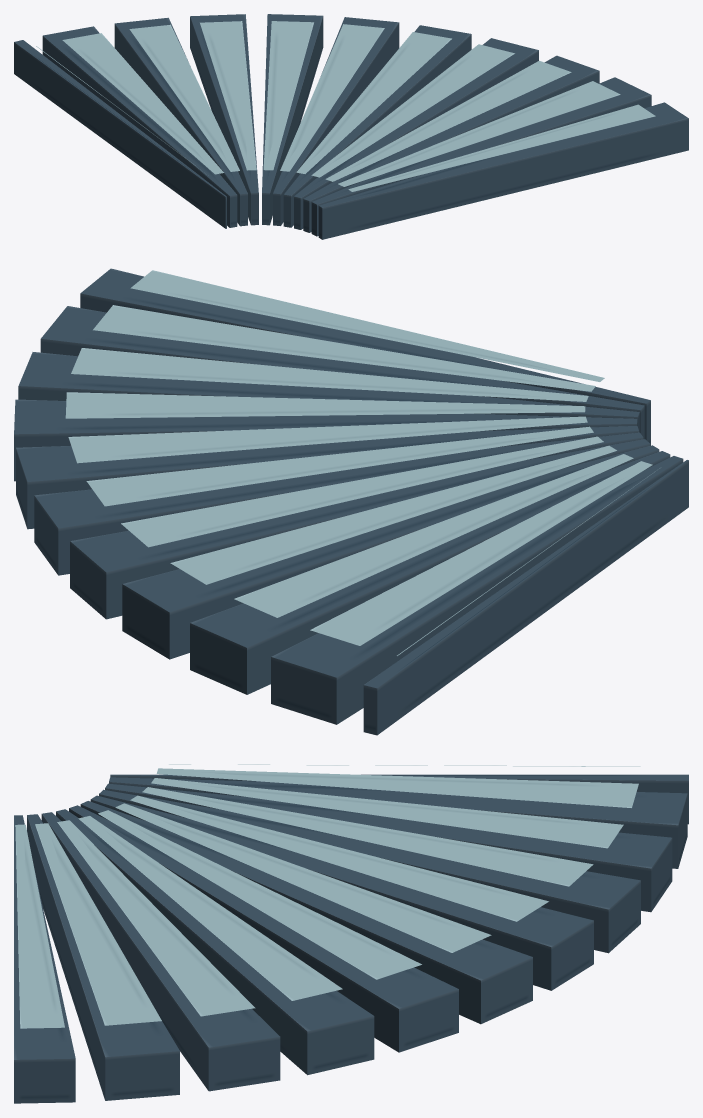
File: sc_tread_curve_left_10.obj
The picture shows the model from 3 angles, top to bottom: view 1: azimuth 30°, elevation 25°; view 2: azimuth 150°, elevation 25°; view 3: azimuth 270°, elevation 25°; orthographic projection. The views are drawn at different scales.
Size of the model in its own units: 17.5 by 1.56 by 17.5.
1 material, 1 textured.
